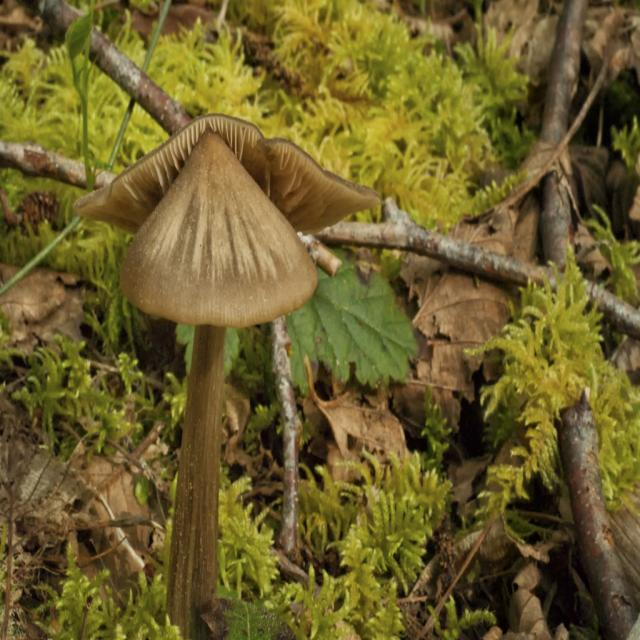Mushroom: (120, 126, 317, 639)
